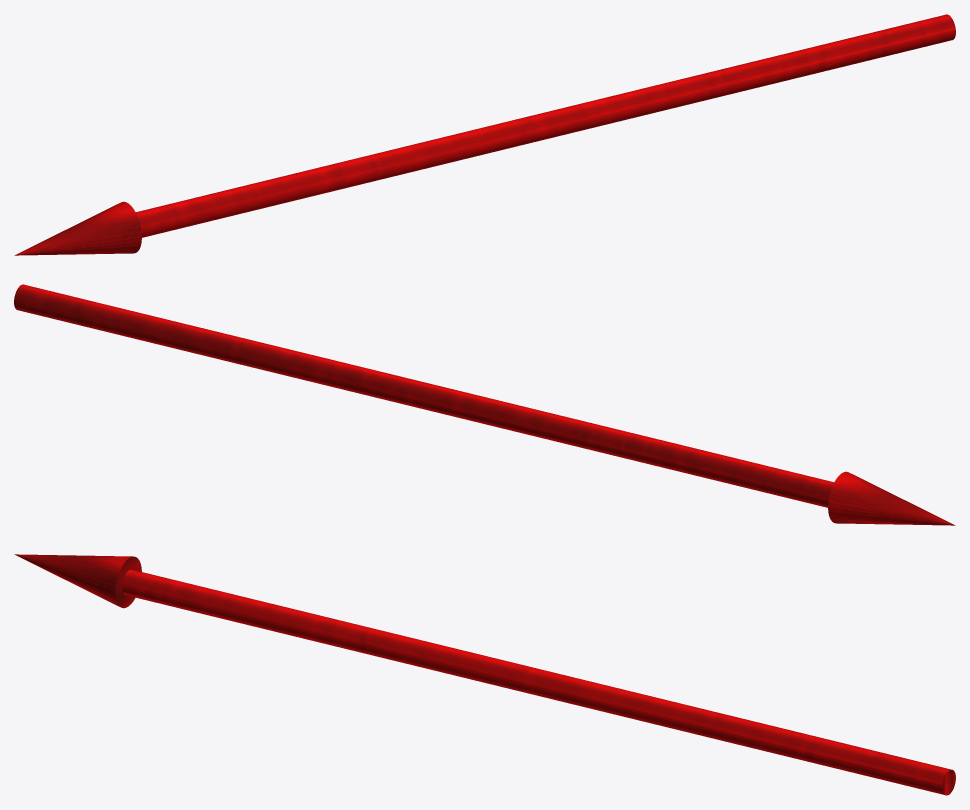
Rendered from arrow.obj.
The picture shows the model from 3 angles, top to bottom: view 1: azimuth 30°, elevation 25°; view 2: azimuth 150°, elevation 25°; view 3: azimuth 330°, elevation 25°; orthographic projection.
Visible parts, largest first — view 1: Cylinder, Cone; view 2: Cylinder, Cone; view 3: Cylinder, Cone.
Boxes of the visible parts, x1=… form: Cylinder: x1=136, y1=14, x2=955, y2=237; Cone: x1=14, y1=201, x2=141, y2=255; Cylinder: x1=14, y1=284, x2=833, y2=507; Cone: x1=828, y1=471, x2=955, y2=525; Cylinder: x1=122, y1=569, x2=955, y2=795; Cone: x1=14, y1=554, x2=141, y2=608.
Size of the model in its own units: 8.15 by 0.4 by 0.4.
2 materials, 2 textured.
